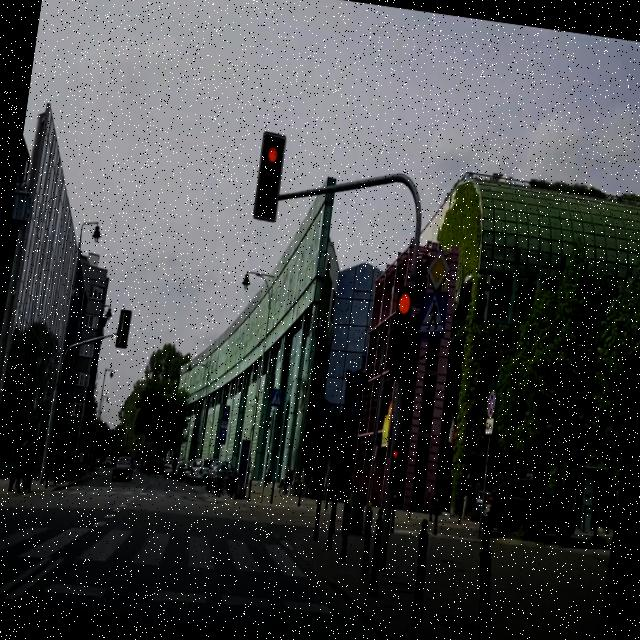Droga z pierwszenstwem: (424, 252, 452, 292)
Przejscie dla pieszych: (416, 292, 449, 339), (272, 388, 282, 407)
Zakaz zatrzymywania sie: (487, 391, 498, 417)
